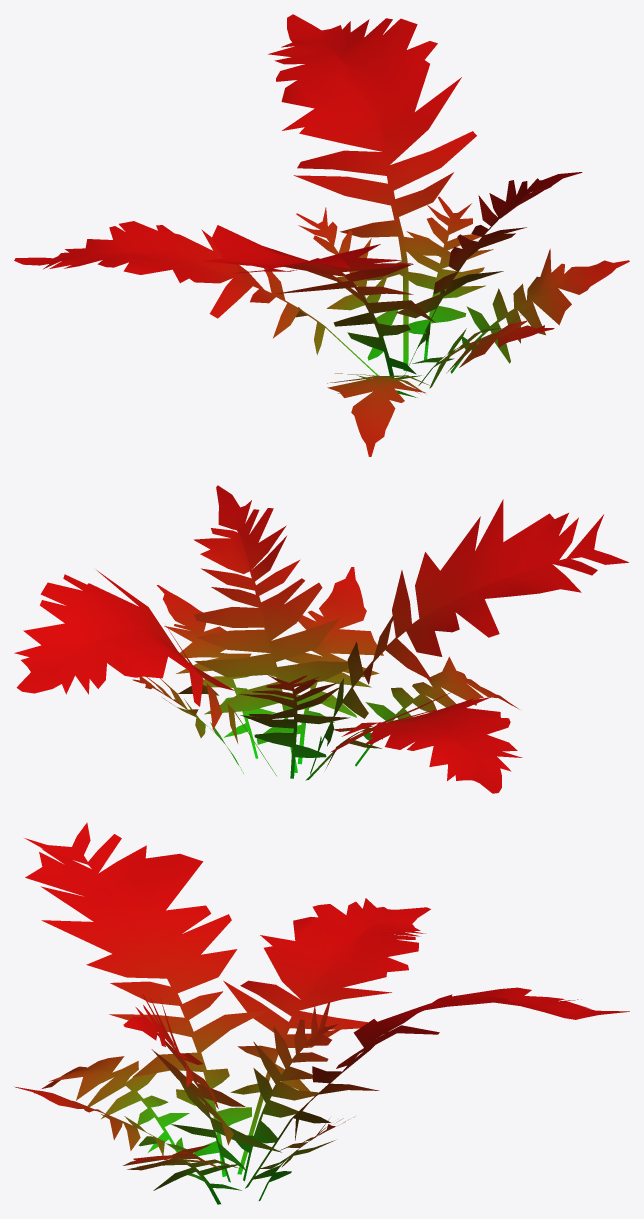
Rendered from Silvery Glade Fern_LOD2_Var8_xf5lebcqx.fbx.
3 renders of one model, top to bottom at view 1: azimuth 30°, elevation 25°; view 2: azimuth 150°, elevation 25°; view 3: azimuth 270°, elevation 25°, orthographic. The views are drawn at different scales.
Visible parts, largest first — view 1: _q7qc_Var8_LOD2; view 2: _q7qc_Var8_LOD2; view 3: _q7qc_Var8_LOD2.
Part boxes in pixels (left/top/right/bottom): _q7qc_Var8_LOD2: left=14, top=14, right=629, bottom=456; _q7qc_Var8_LOD2: left=14, top=485, right=628, bottom=793; _q7qc_Var8_LOD2: left=14, top=822, right=629, bottom=1204.
Size of the model in its own units: 54.48 by 26.3 by 58.82.
